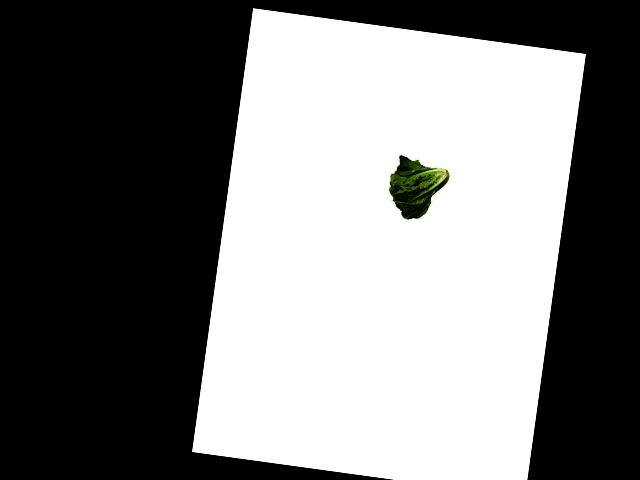lettuce: (382, 152, 454, 225)
